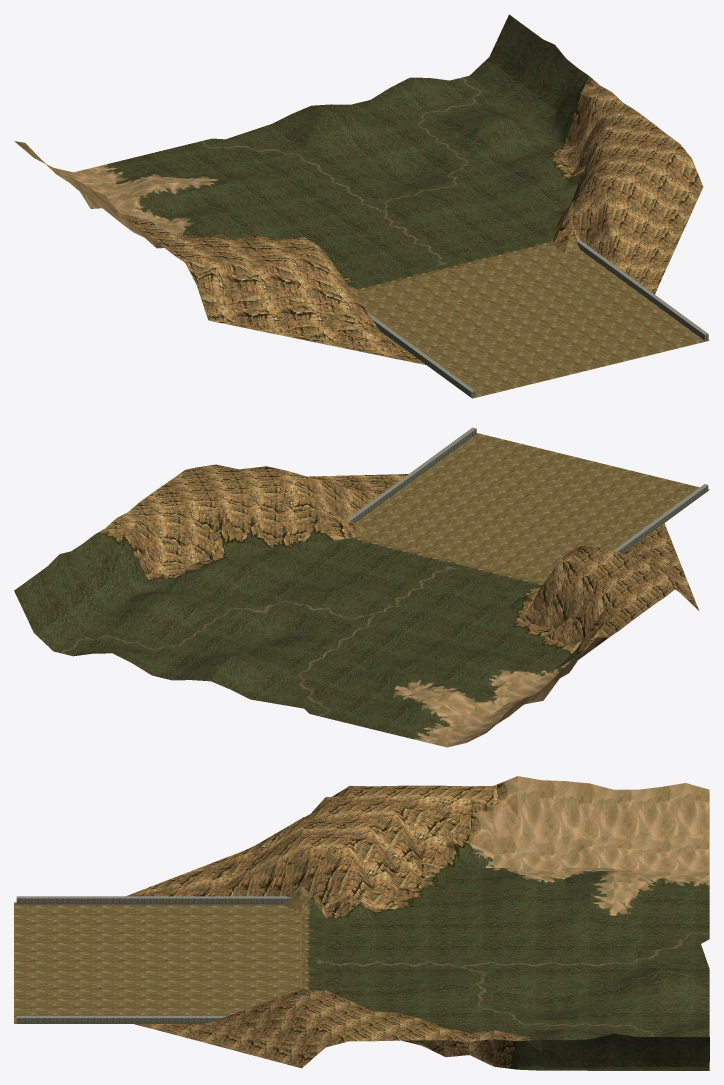
File: ecommons-colldier1.fbx
The picture shows the model from 3 angles, top to bottom: view 1: azimuth 30°, elevation 25°; view 2: azimuth 150°, elevation 25°; view 3: azimuth 270°, elevation 25°; orthographic projection. The views are drawn at different scales.
Parts seen in each view (by area): view 1: CollisionEC1; view 2: CollisionEC1; view 3: CollisionEC1.
Boxes of the visible parts, bbox=[...] form: CollisionEC1: bbox=[14, 14, 709, 398]; CollisionEC1: bbox=[14, 427, 709, 747]; CollisionEC1: bbox=[14, 776, 709, 1070].
Size of the model in its own units: 2502 by 343 by 2902.
